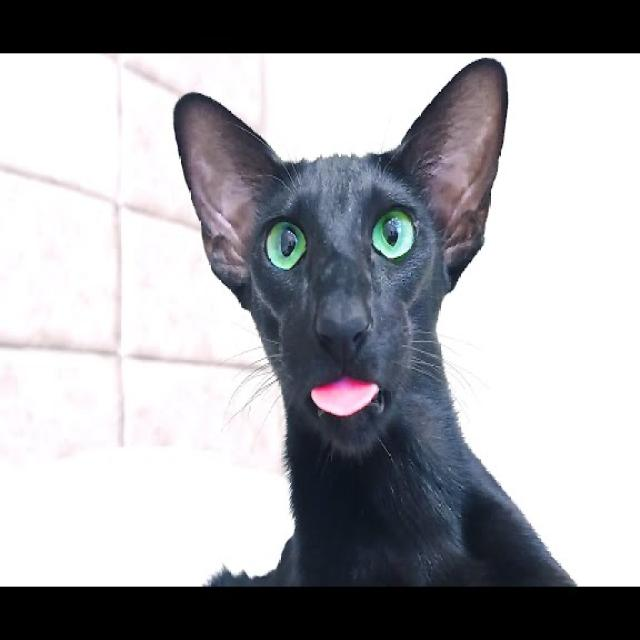Oriental: (169, 53, 583, 586)
